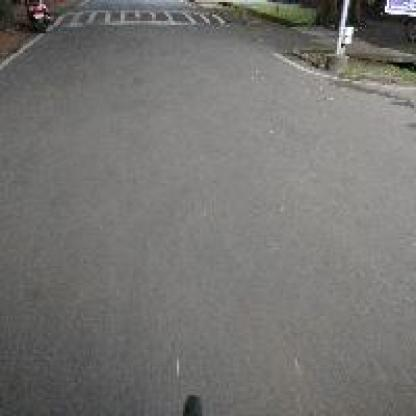Speed Bump: (66, 8, 224, 25)
